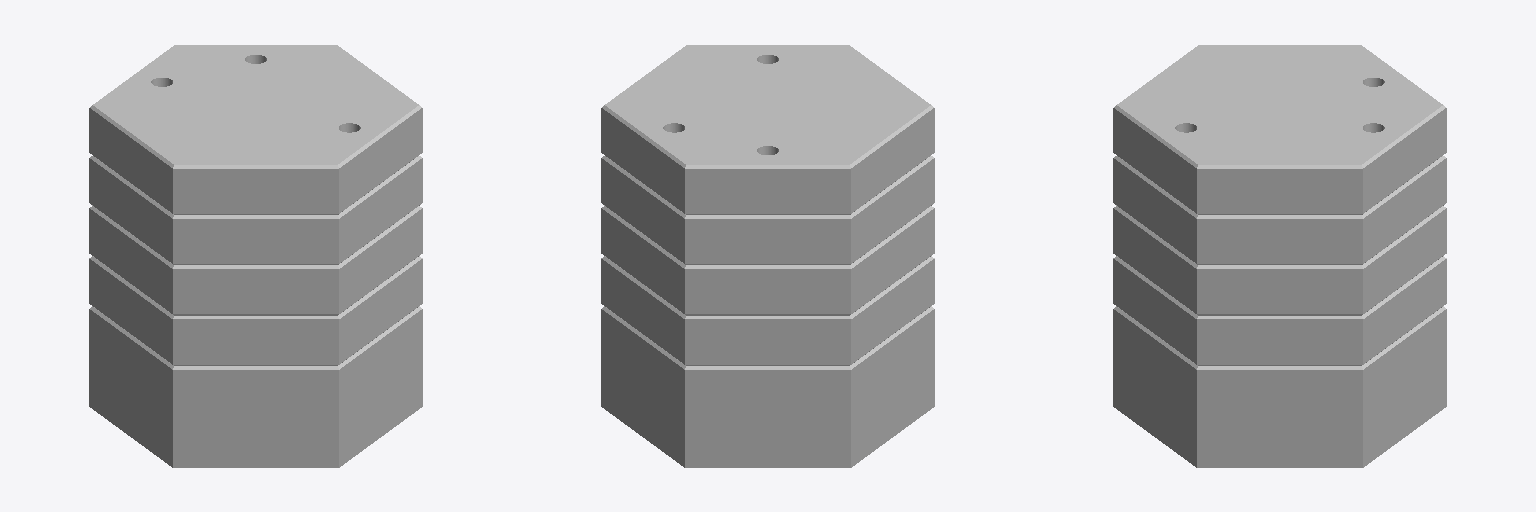
File: lvl5D.obj
3 renders of one model, left to right at view 1: azimuth 30°, elevation 25°; view 2: azimuth 150°, elevation 25°; view 3: azimuth 270°, elevation 25°, orthographic.
Visible parts, largest first — view 1: Lvl5D-3_(Mono-NoMags); view 2: Lvl5D-3_(Mono-NoMags); view 3: Lvl5D-3_(Mono-NoMags).
Boxes of the visible parts, x1=… form: Lvl5D-3_(Mono-NoMags): x1=89, y1=45, x2=422, y2=467; Lvl5D-3_(Mono-NoMags): x1=601, y1=45, x2=934, y2=467; Lvl5D-3_(Mono-NoMags): x1=1113, y1=45, x2=1446, y2=467.
Bounding box in the file's own units: 3.13 × 3.62 × 3.62.